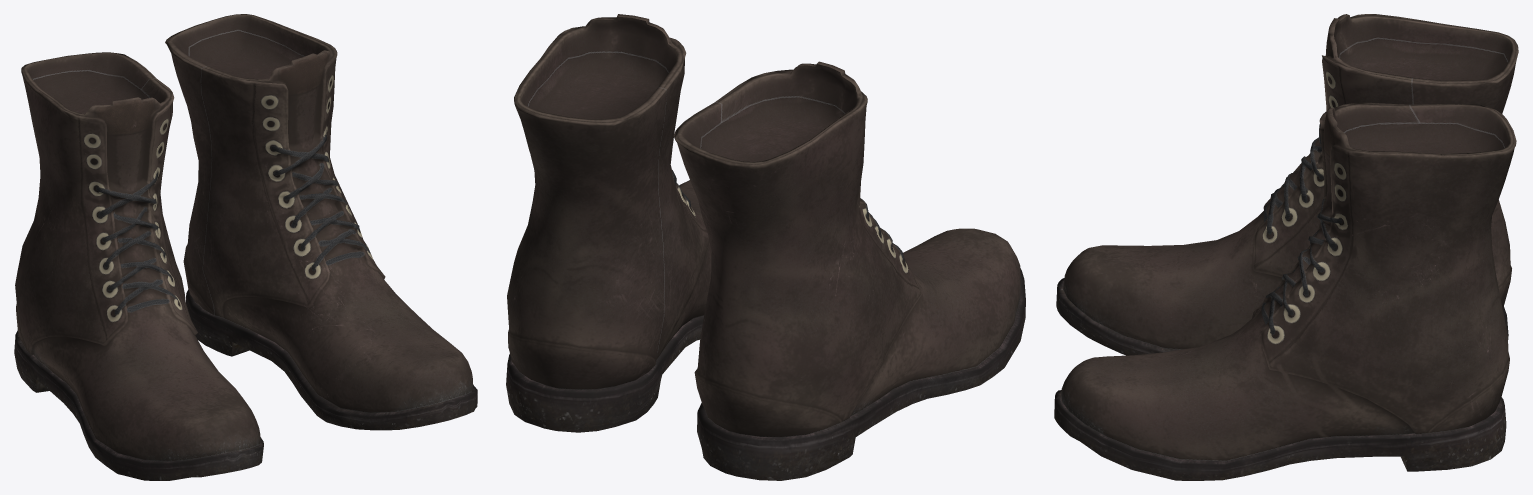
File: Boots.fbx
The picture shows the model from 3 angles, left to right: view 1: azimuth 30°, elevation 25°; view 2: azimuth 150°, elevation 25°; view 3: azimuth 270°, elevation 25°; orthographic projection. The views are drawn at different scales.
Parts seen in each view (by area): view 1: boots; view 2: boots; view 3: boots.
Boxes of the visible parts, x1,y1,x2,y2 form: boots: (14,14,477,480); boots: (506,14,1025,480); boots: (1054,14,1518,480).
Size of the model in its own units: 25.37 by 21.48 by 27.63.
1 material, 1 textured.
